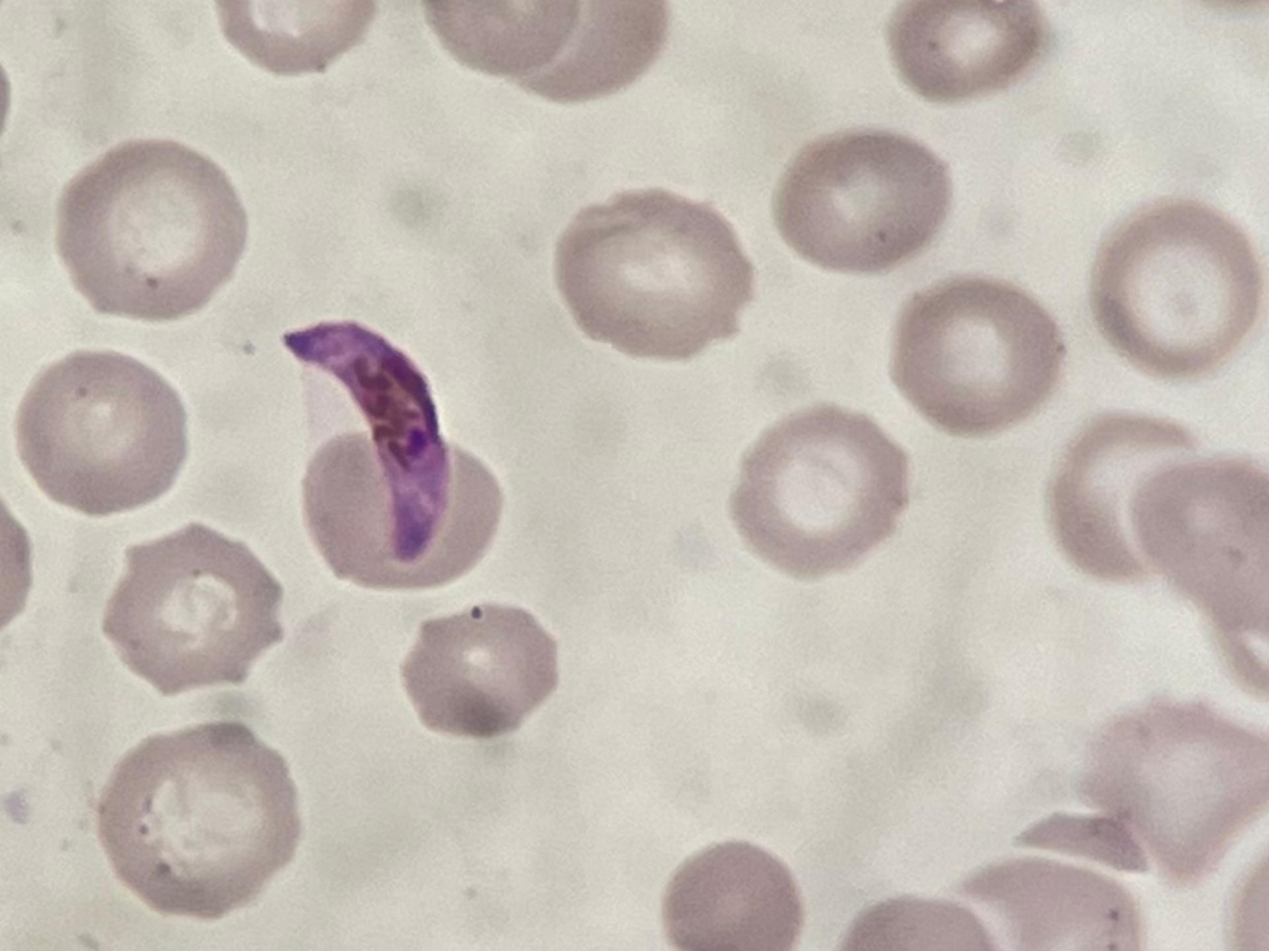Infected: (278, 318, 452, 566)
Uninfected: (96, 721, 307, 915), (55, 136, 250, 319), (550, 189, 753, 358), (1079, 703, 1266, 883), (97, 522, 284, 697), (301, 433, 506, 592), (725, 402, 909, 575), (1089, 199, 1257, 377), (13, 352, 189, 516), (768, 124, 952, 274), (889, 278, 1064, 432), (1044, 412, 1195, 582), (402, 605, 557, 732), (952, 855, 1141, 951), (886, 0, 1047, 106), (661, 840, 797, 951)
